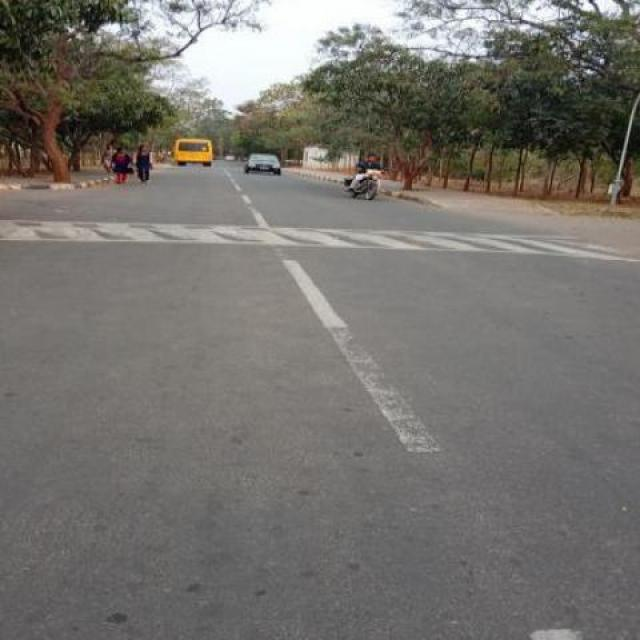Speed Bump: (0, 217, 639, 266)
